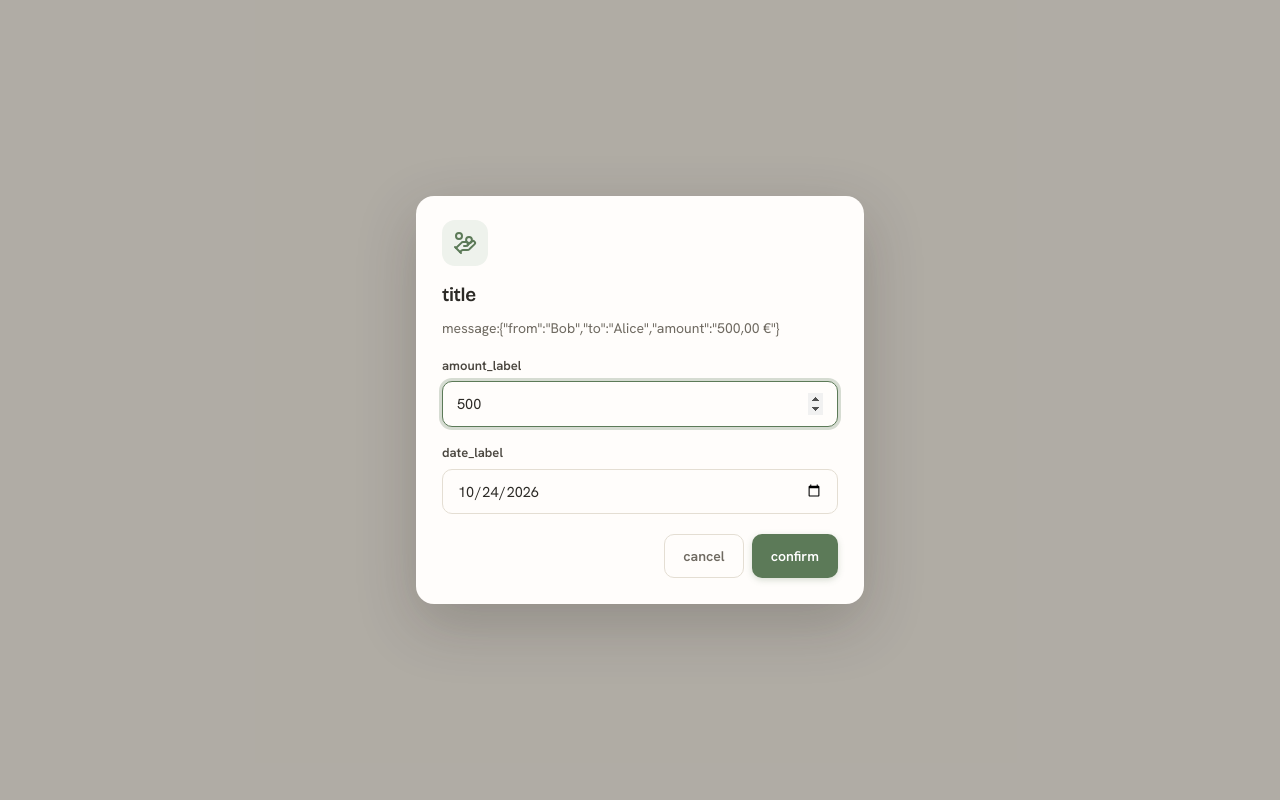
it: SettleDebtModal › rejects an amount greater than the debt
Replace the text in the number field labelled "amount_label" with "600" at (640, 404), box x1=442 y1=381 x2=838 y2=427
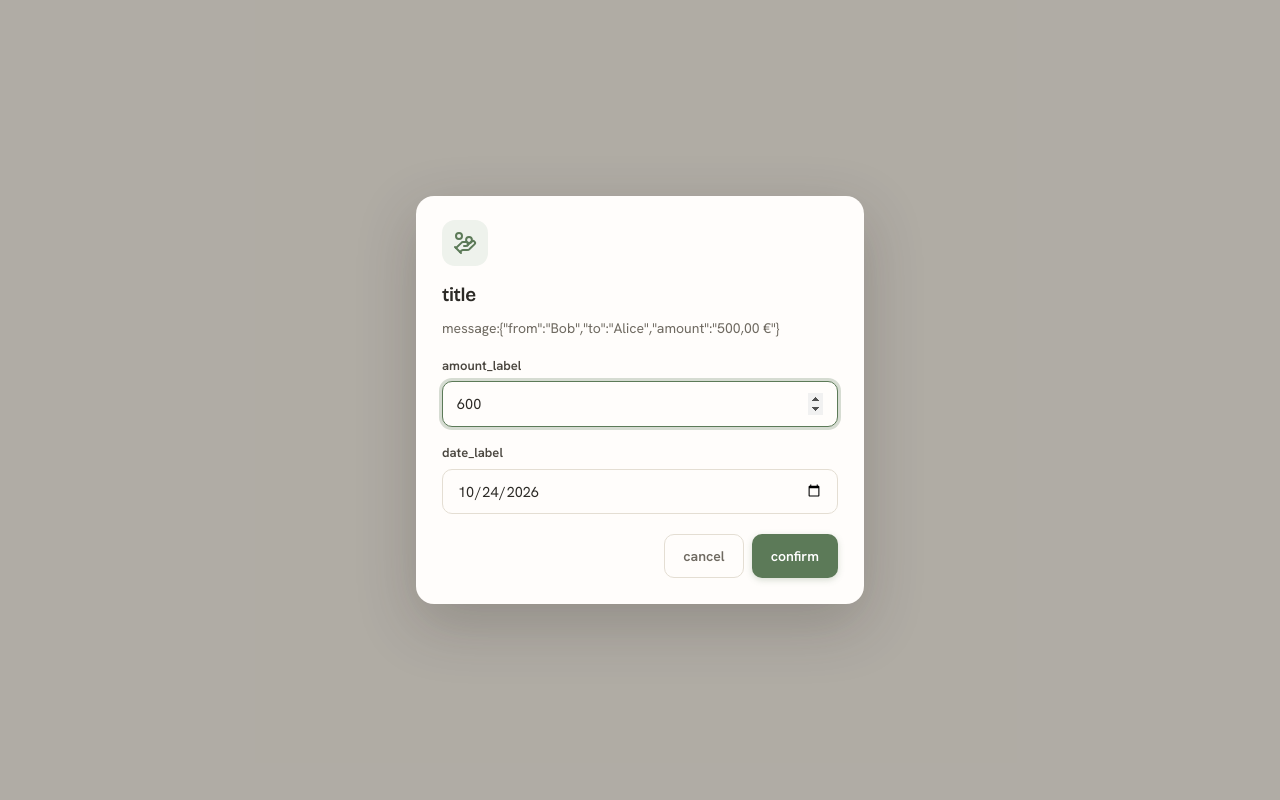
Click the button "confirm" at (795, 556), box x1=752 y1=534 x2=838 y2=578
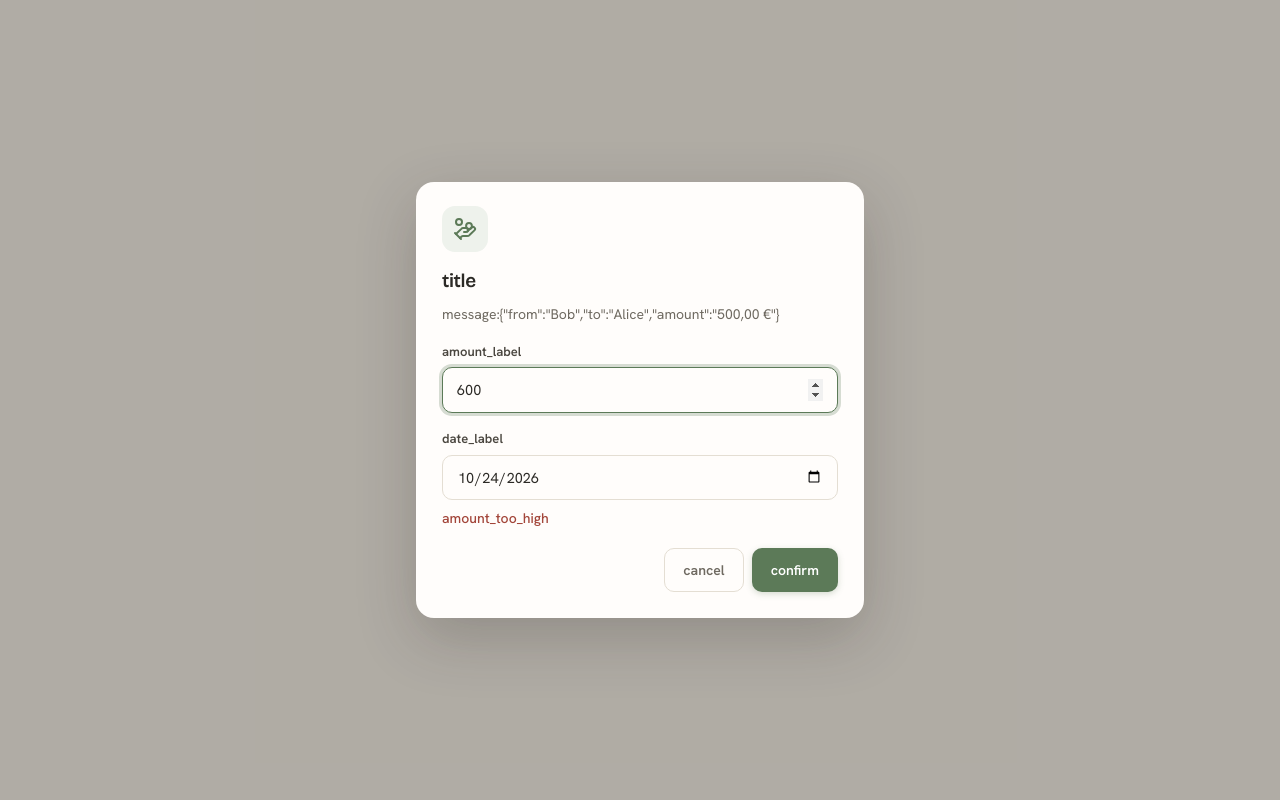
Check: the text "amount_too_high" is shown, box x1=442 y1=509 x2=549 y2=527
